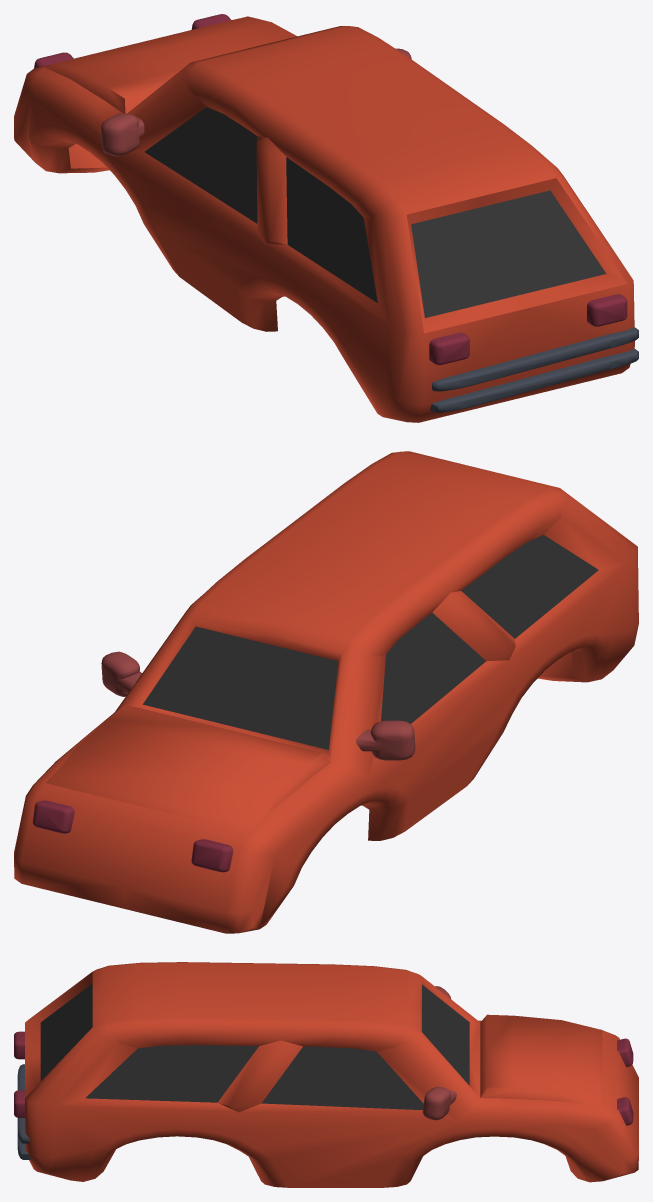
Rendered from car (2).fbx.
The picture shows the model from 3 angles, top to bottom: view 1: azimuth 30°, elevation 25°; view 2: azimuth 150°, elevation 25°; view 3: azimuth 270°, elevation 25°; orthographic projection. The views are drawn at different scales.
Parts seen in each view (by area): view 1: Cube; view 2: Cube; view 3: Cube.
Part boxes in pixels (x1,y1,x2,y2): Cube: (14, 14, 638, 422); Cube: (14, 451, 638, 933); Cube: (14, 962, 638, 1187).
Size of the model in its own units: 2.54 by 1.64 by 5.87.
1 material, 1 textured.
